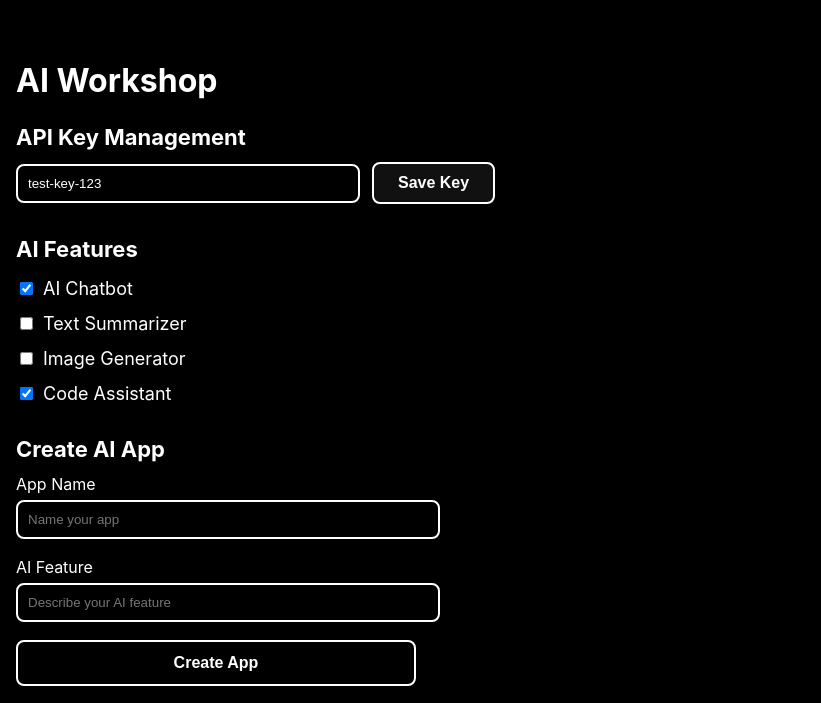
Workshop page › shows confirmation after submitting
Replace the text in the field with placeholder "Enter your AI API key" with "test-key" at (188,184), box [16,164,360,203]
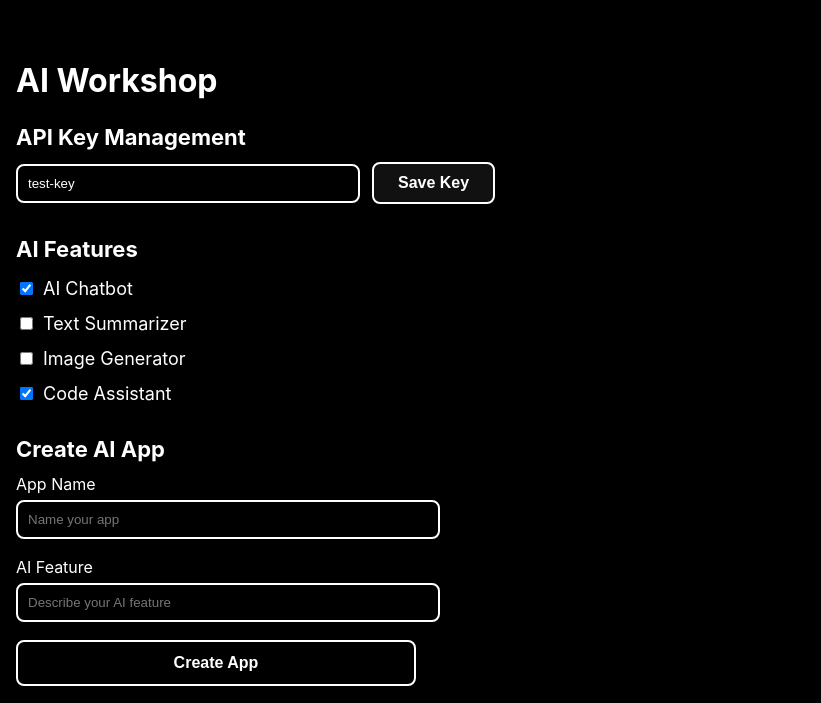
Type "Chatbot" into the field with placeholder "Describe your AI feature" at (228,603), box [16,583,440,622]
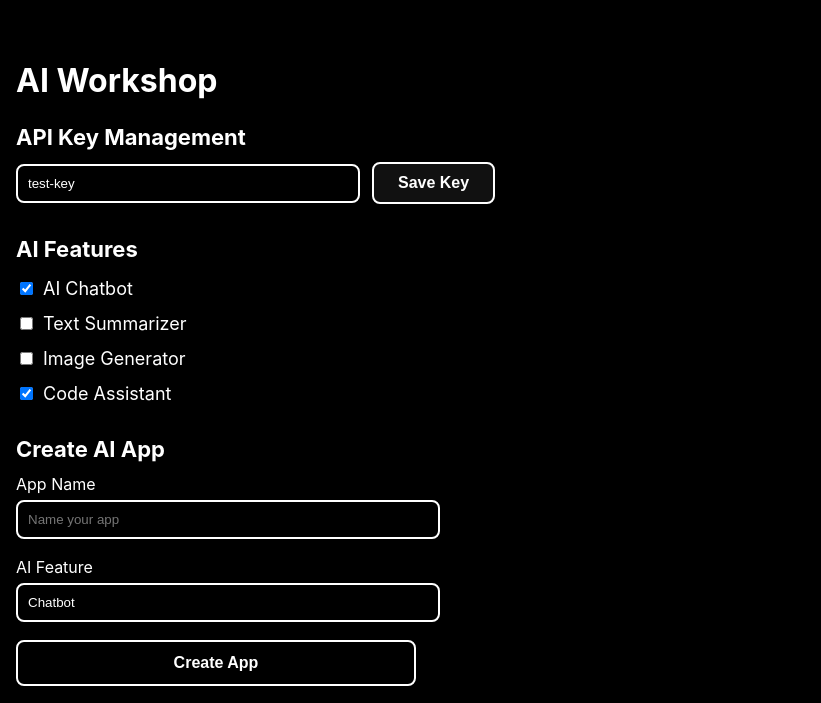
Type "WonderBot" into the field with placeholder "Name your app" at (228,520), box [16,500,440,539]
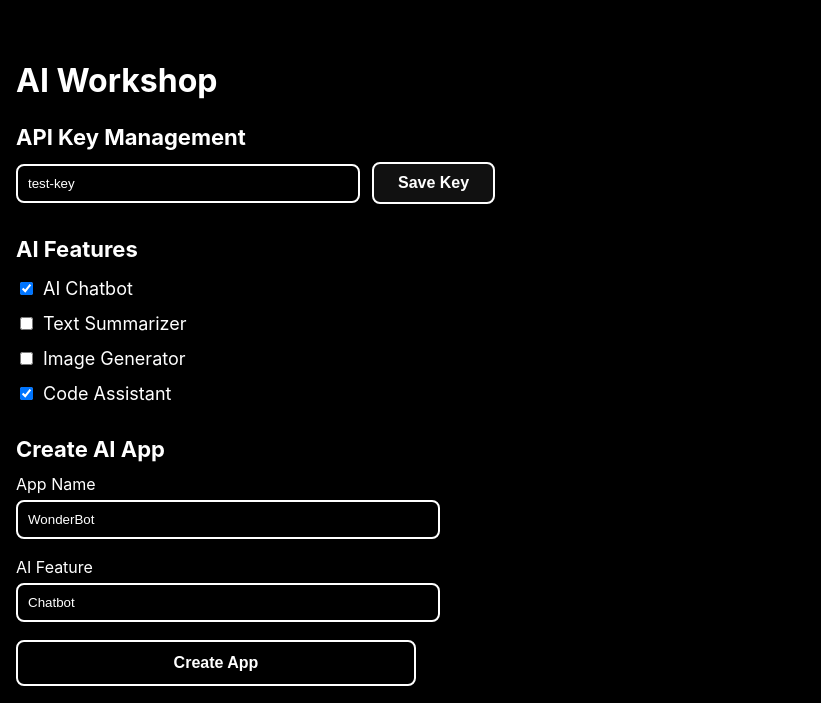
Click the button "Create App" at (216,663), box [16,640,416,686]
(page scrolled)
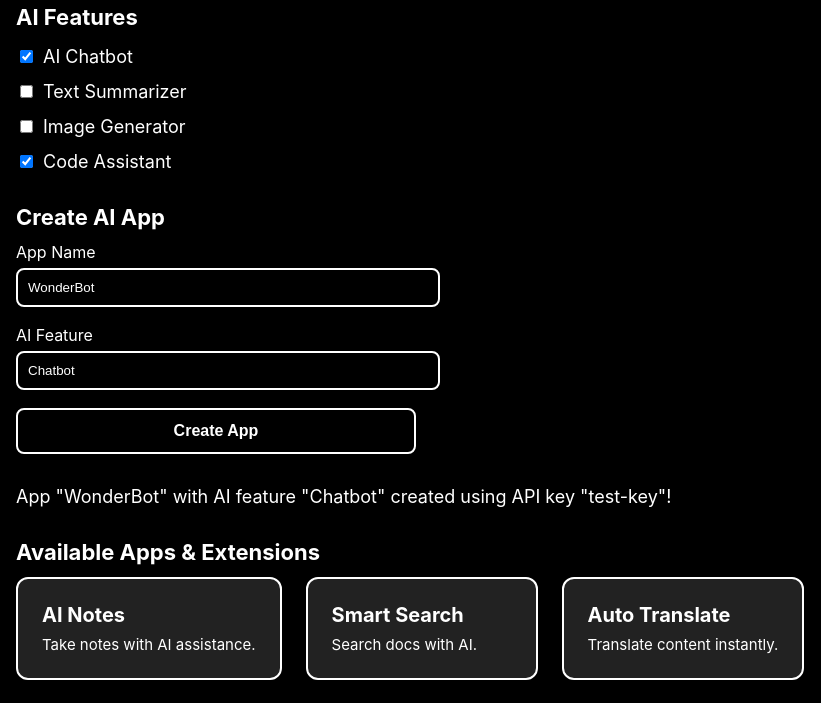
Expected: the text "App \"WonderBot\" with AI feature \"Chatbot\" created using API key \"test-key\"!" is shown, [16,486,671,507]
